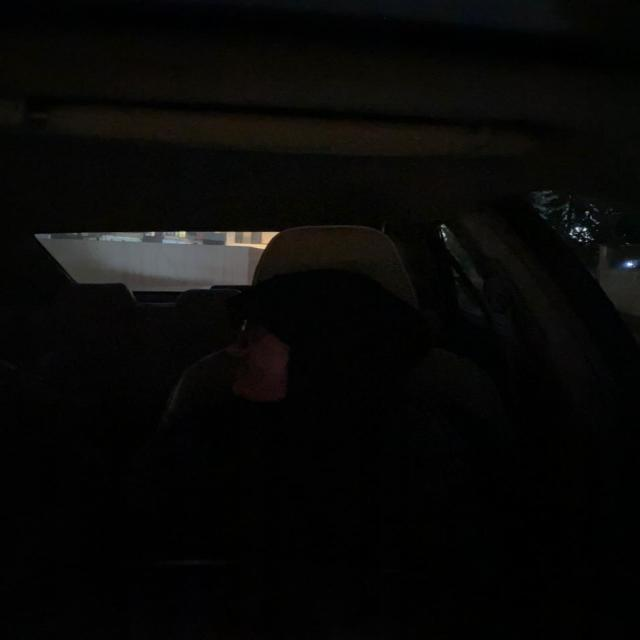LeftRight: (199, 298, 347, 416)
